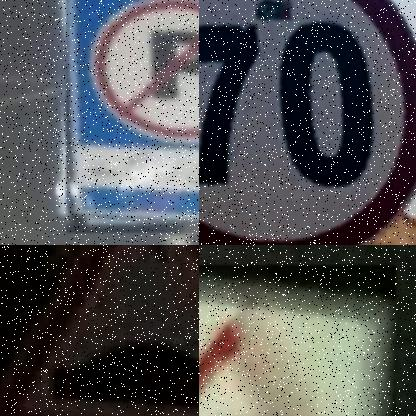Speed Breaker Ahead: (0, 245, 199, 416), (199, 275, 396, 416)
Speed Limit -70 kmph-: (199, 0, 416, 245)
